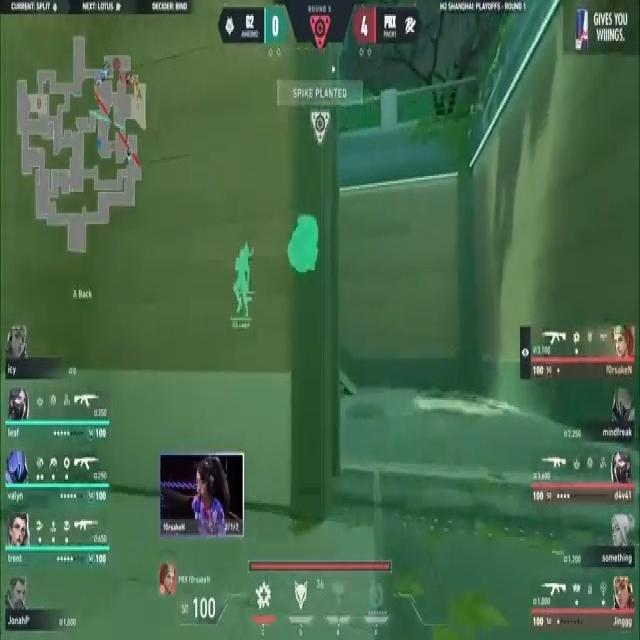ally behind wall: (232, 253, 250, 320)
